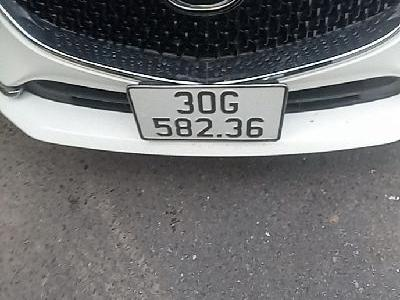number: (127, 85, 284, 143)
